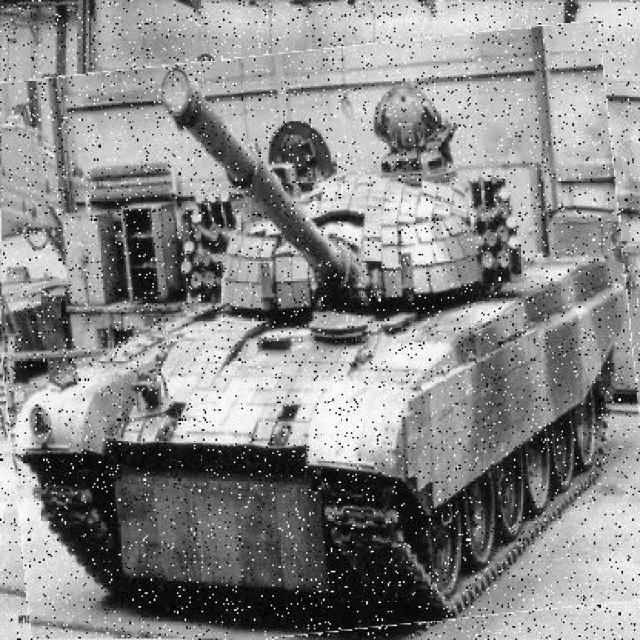Tank: (2, 36, 640, 639)
